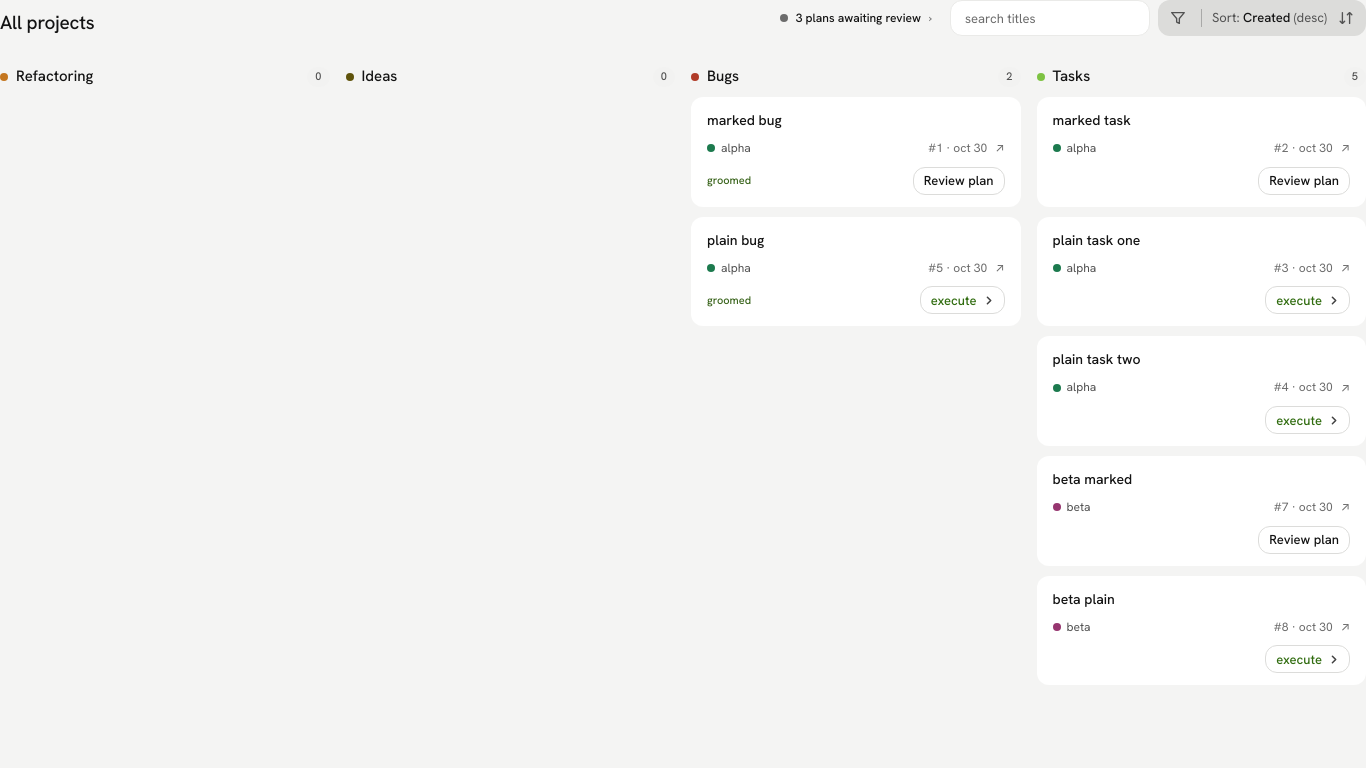
it: BoardView plan-review filter › leaves the picked project as it is
The width and height of the screenshot is (1366, 768).
Check: the button with test id "plan-review-chip" is shown, box [770, 2, 942, 34]
Click the button named "Filters" at {"x": 1178, "y": 18}, box [1161, 3, 1195, 33]
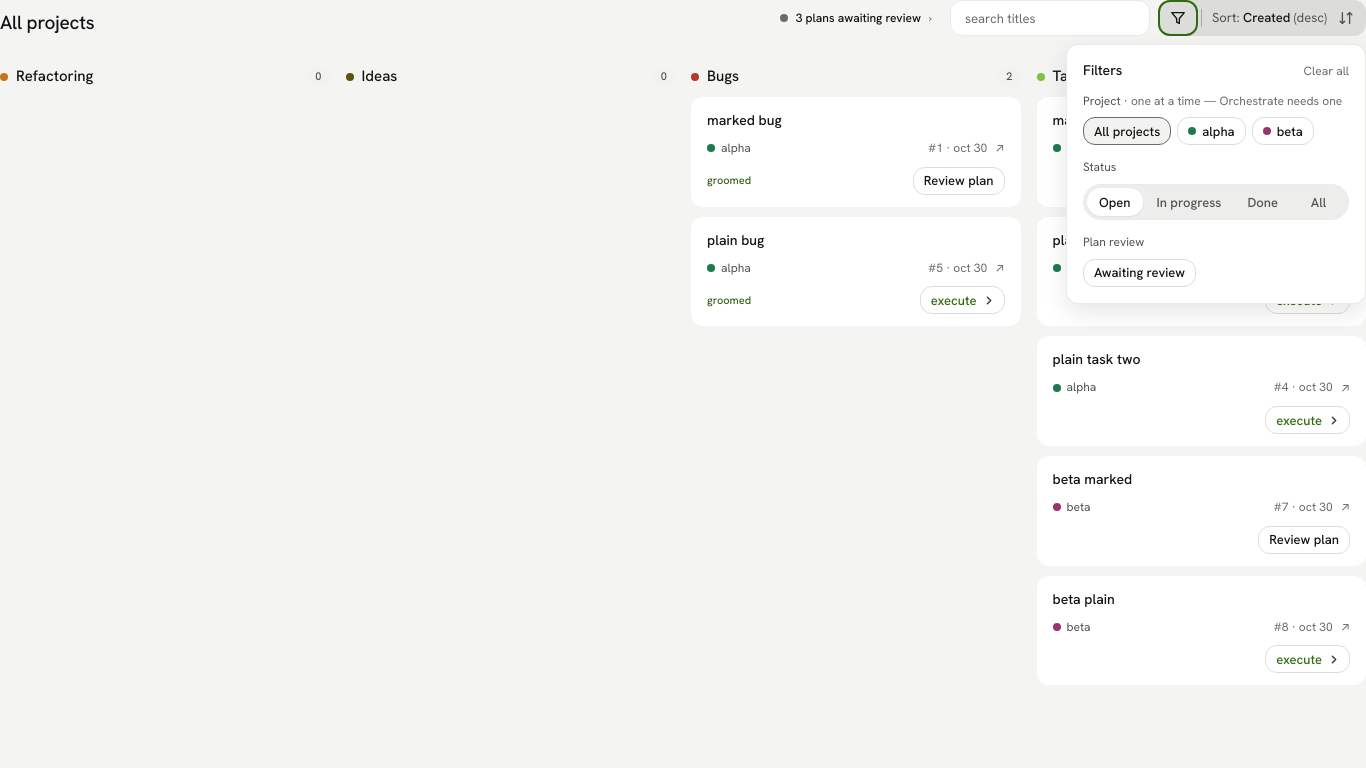
Click the button "beta" at {"x": 1283, "y": 131}, box [1252, 117, 1314, 145]
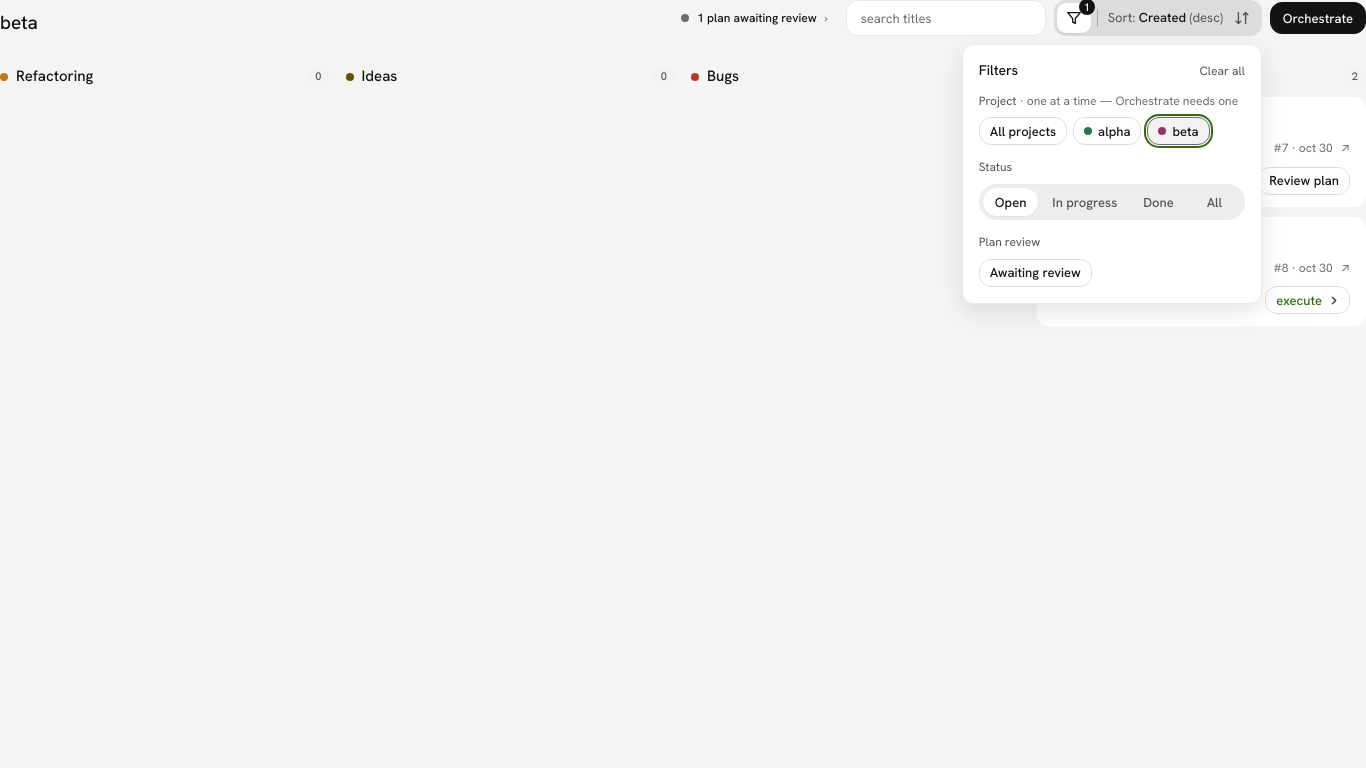
Click the button with test id "plan-review-chip" at {"x": 754, "y": 18}, box [671, 2, 838, 34]
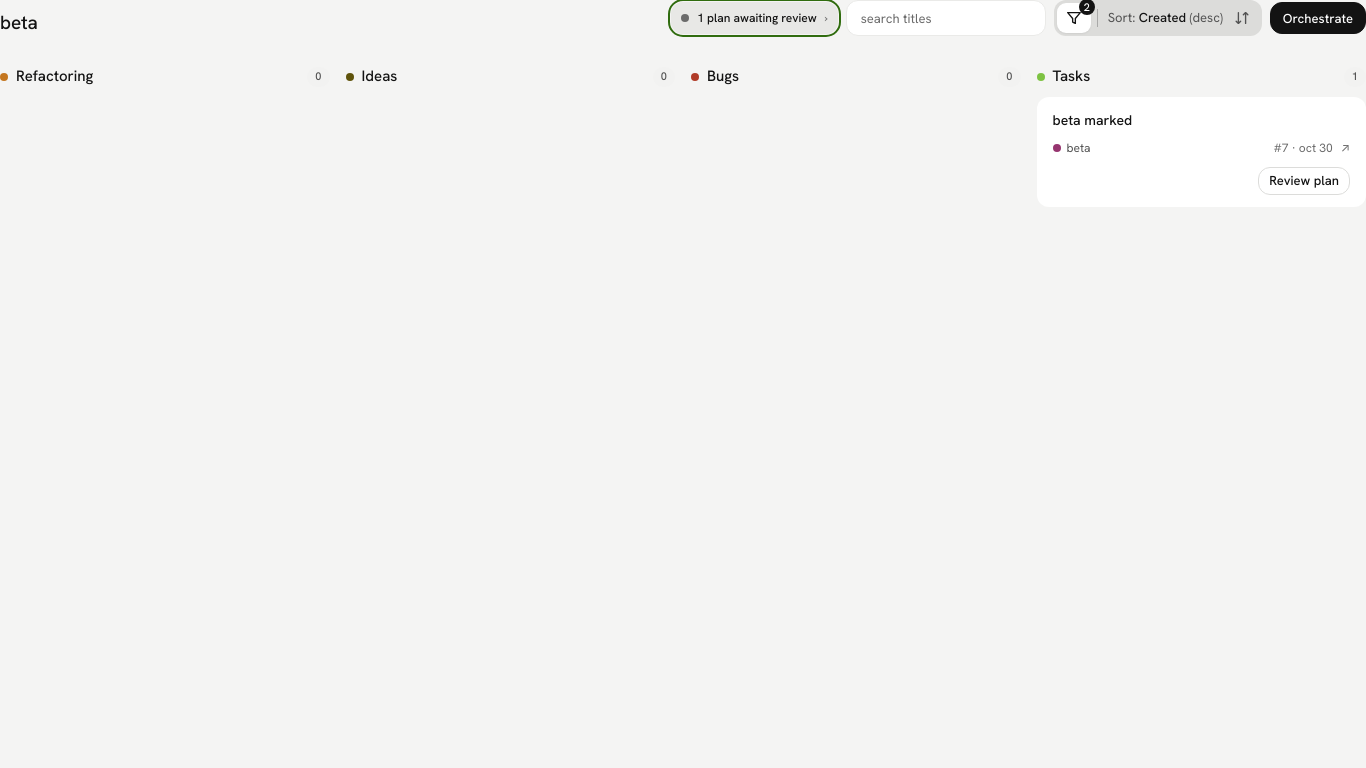
Click the button named "Filters" at {"x": 1074, "y": 18}, box [1057, 3, 1091, 33]
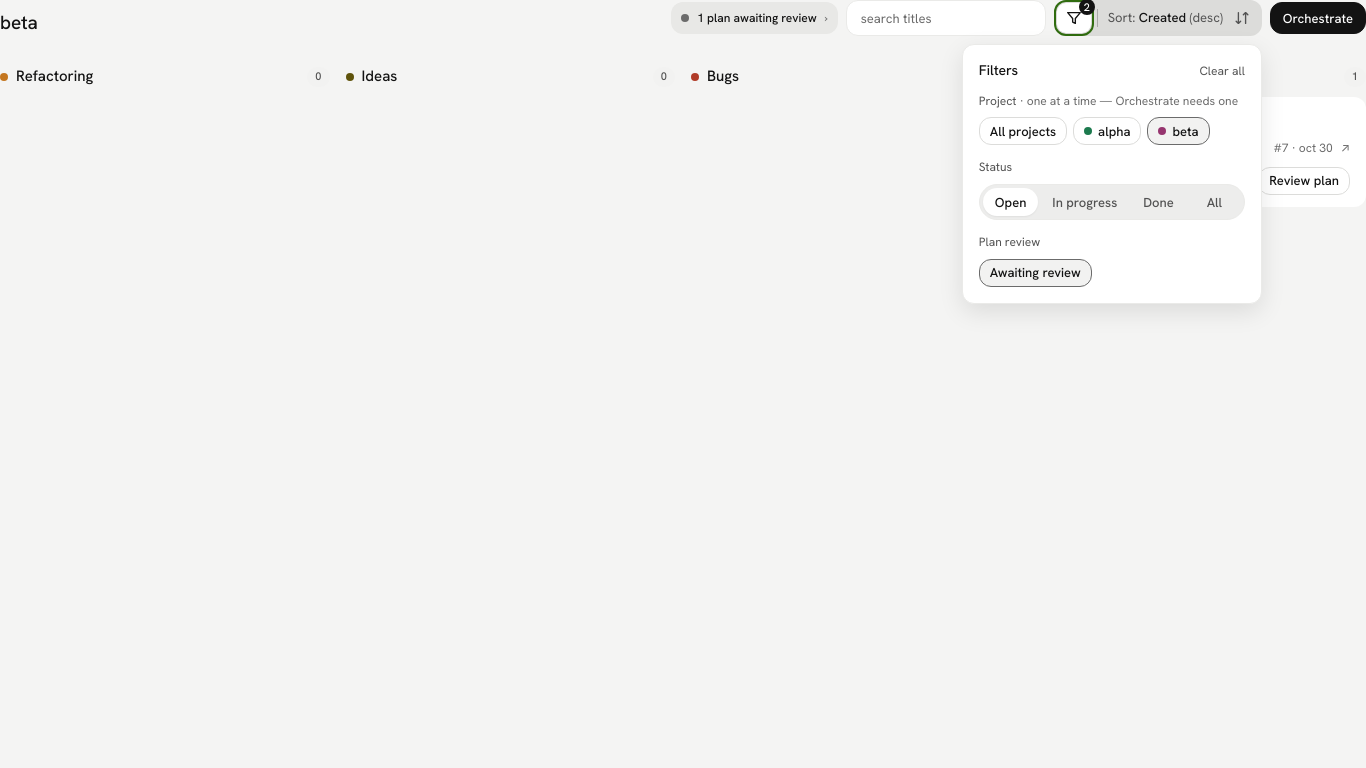
Check: the button "beta" is shown, box [1148, 117, 1210, 145]
